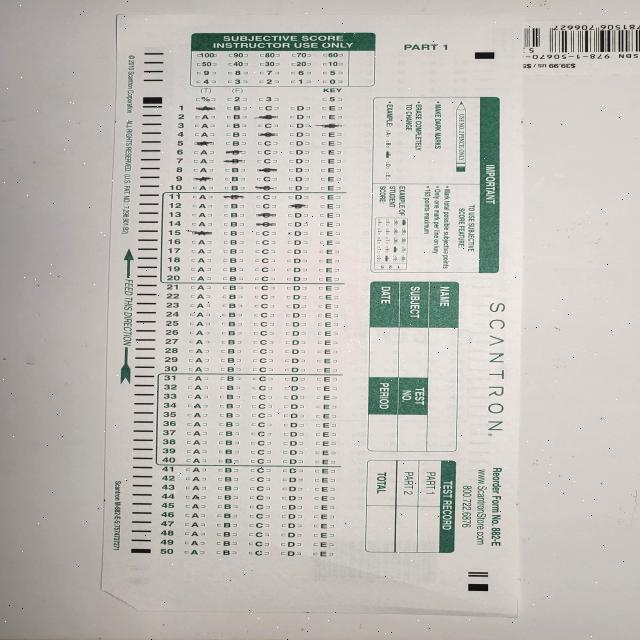scantron: (100, 13, 527, 618)
